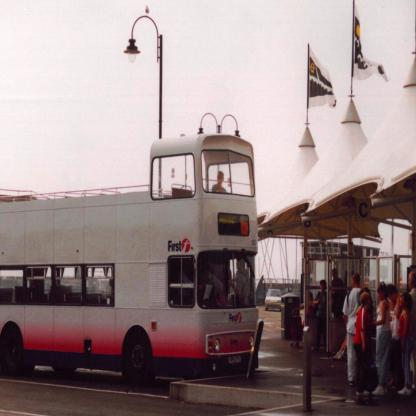Bus: (0, 130, 260, 390)
